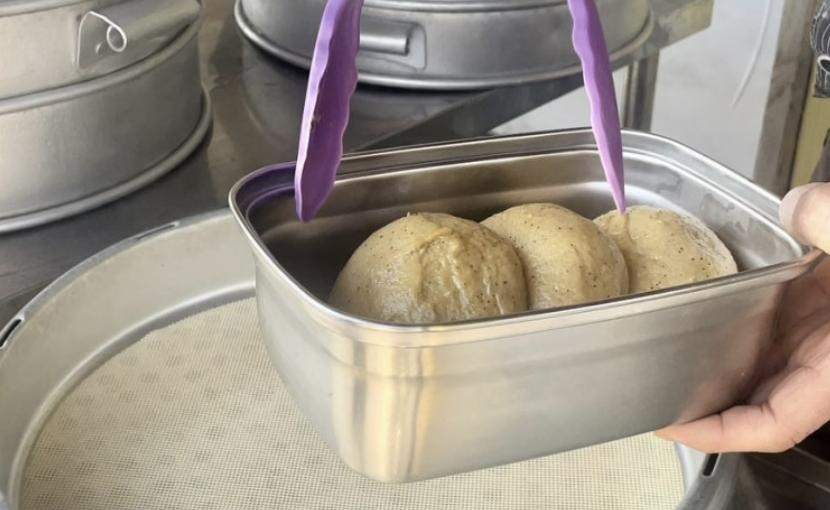Lunch Box: (229, 129, 820, 482)
